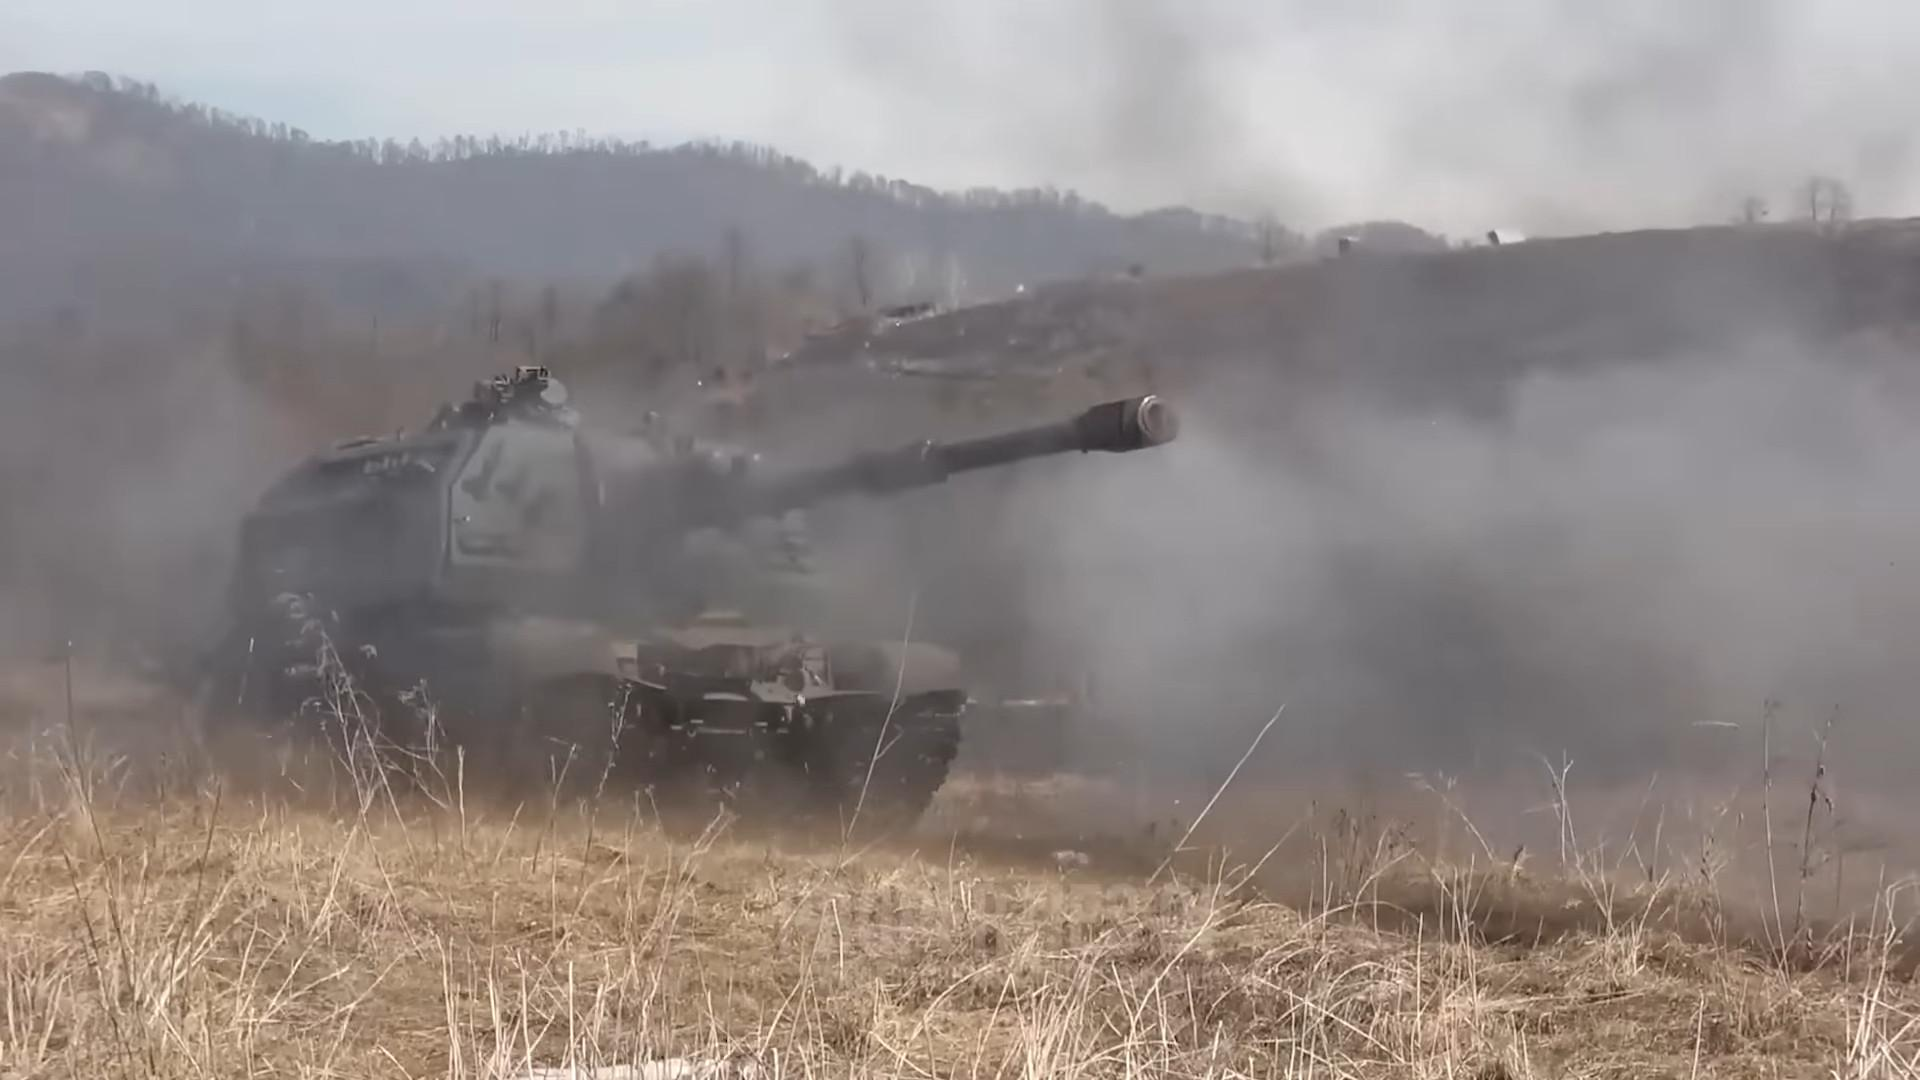tank: (196, 364, 1179, 848)
